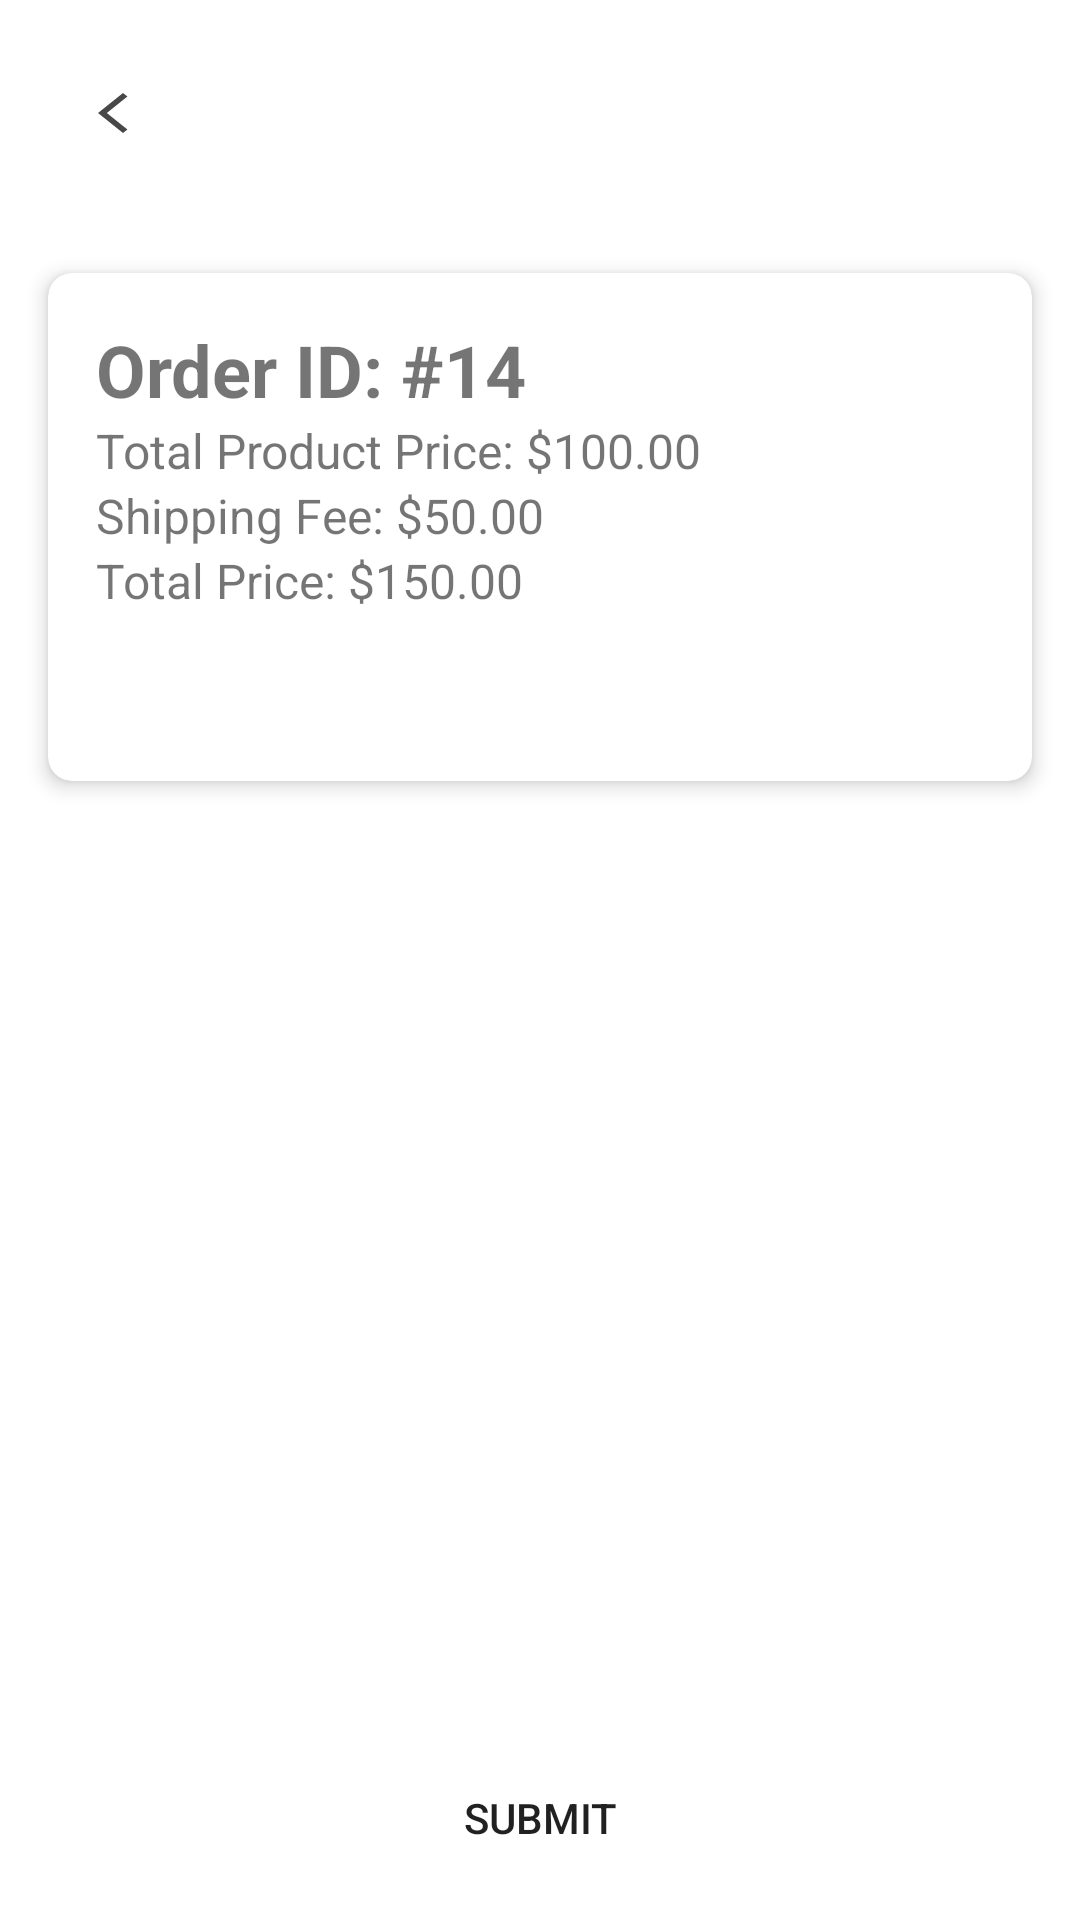

Locate icon controls on the screen. Image size 1080*1920, boxes as [x1, y1, x2, y2].
back: [98, 93, 127, 133]
